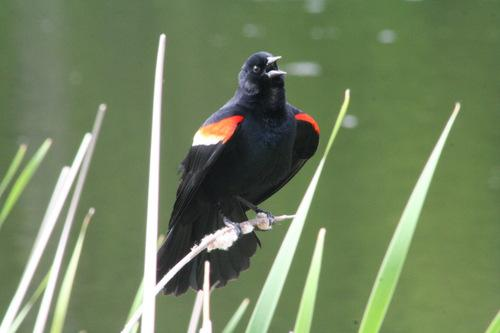010.Red_winged_Blackbird: (151, 52, 323, 299)
